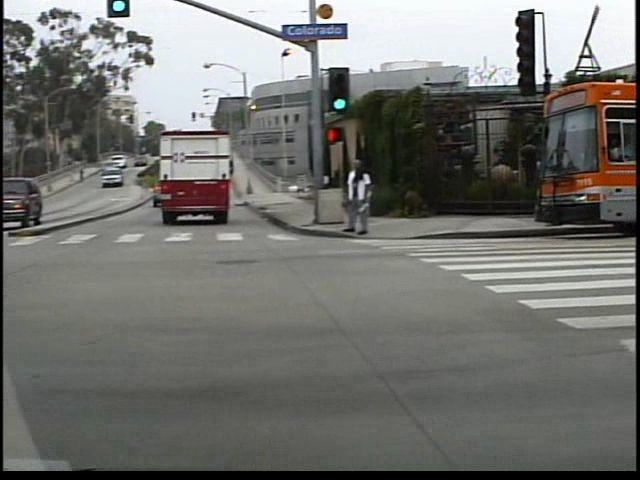person: (351, 156, 382, 239)
